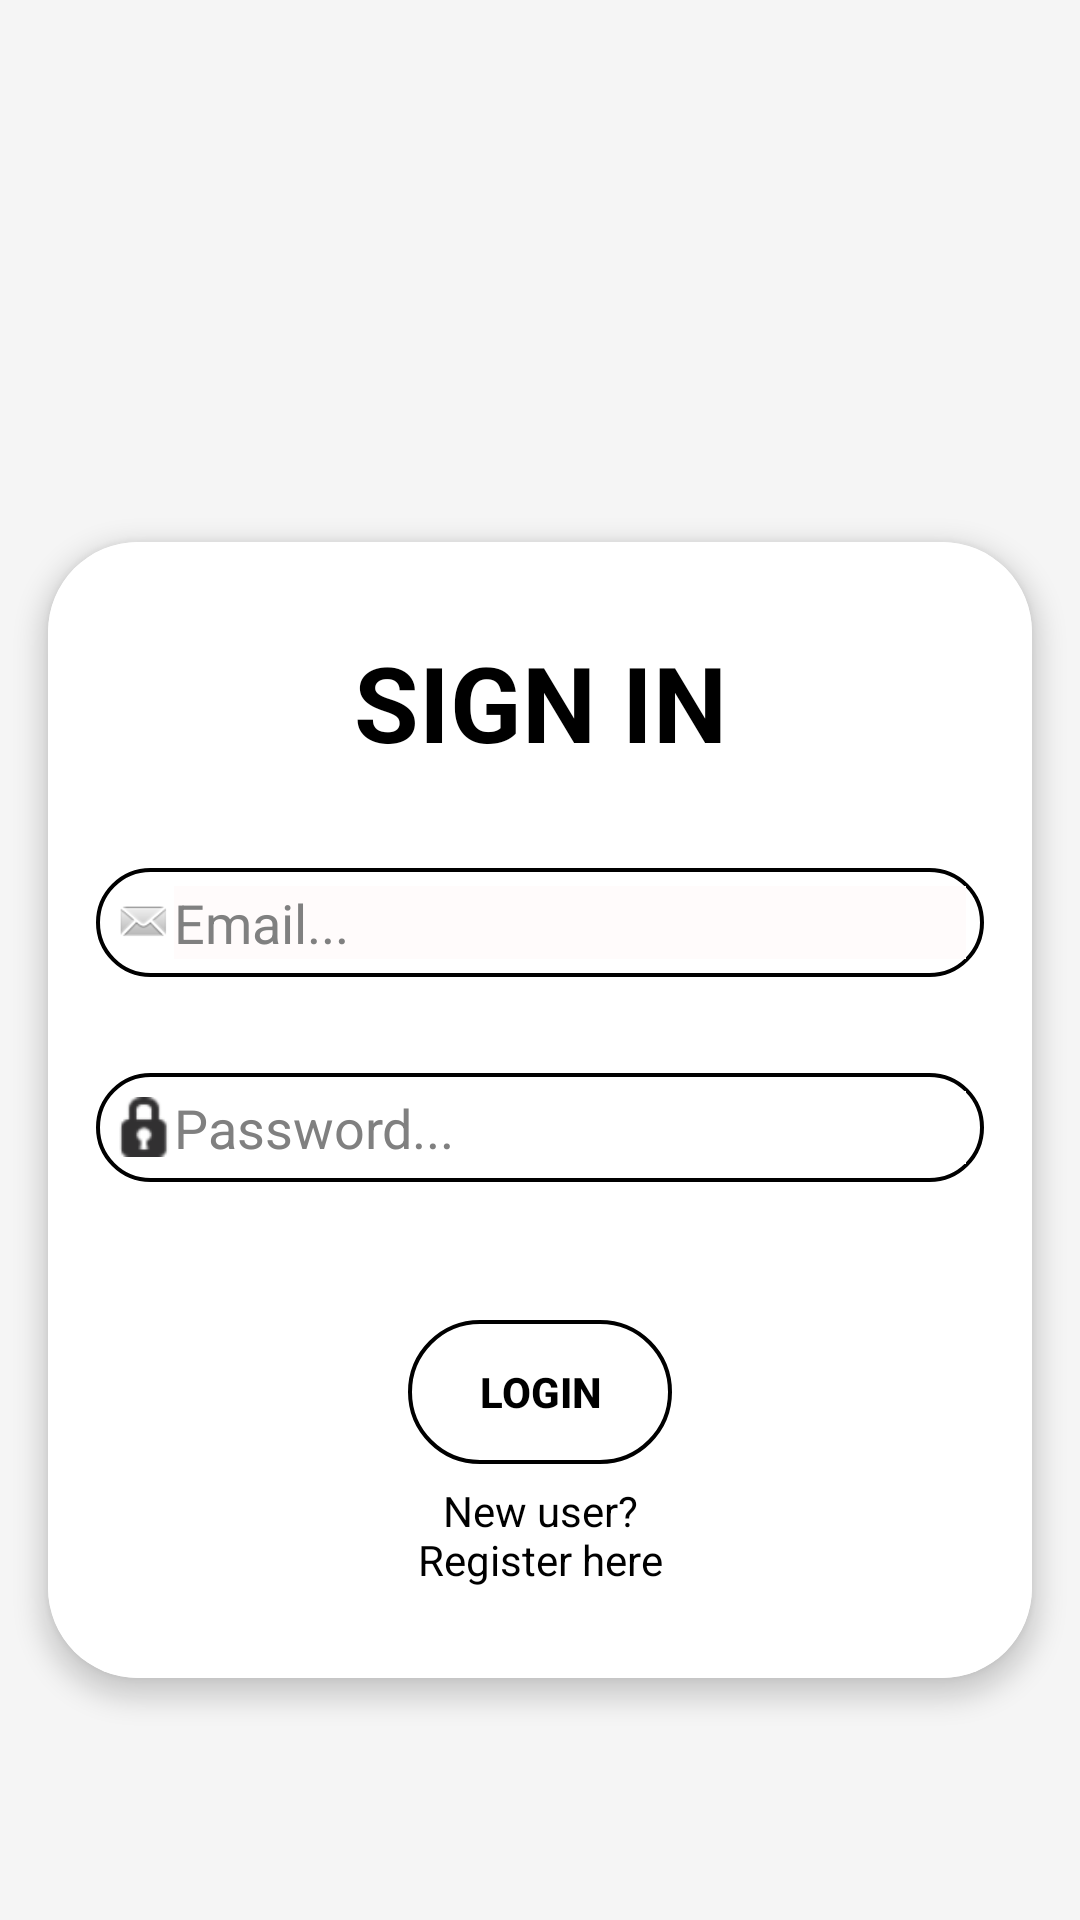

Where icons sit on this 1080px×1920px app screen, as (x1, y1, x2, y2):
secure: (120, 1097, 167, 1157)
